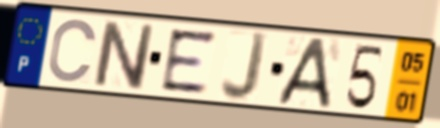5: (343, 42, 386, 110)
A: (274, 36, 334, 109)
C: (45, 16, 100, 85)
E: (159, 27, 219, 95)
J: (218, 28, 271, 104)
N: (91, 18, 156, 93)
